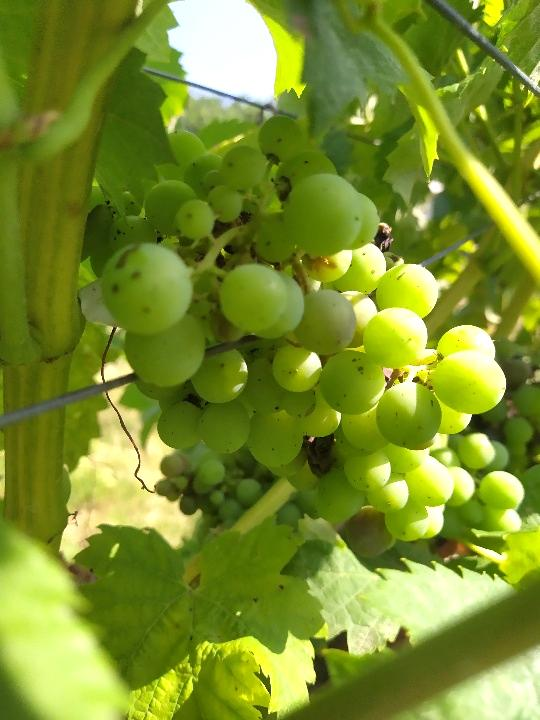grape: (85, 117, 525, 563)
